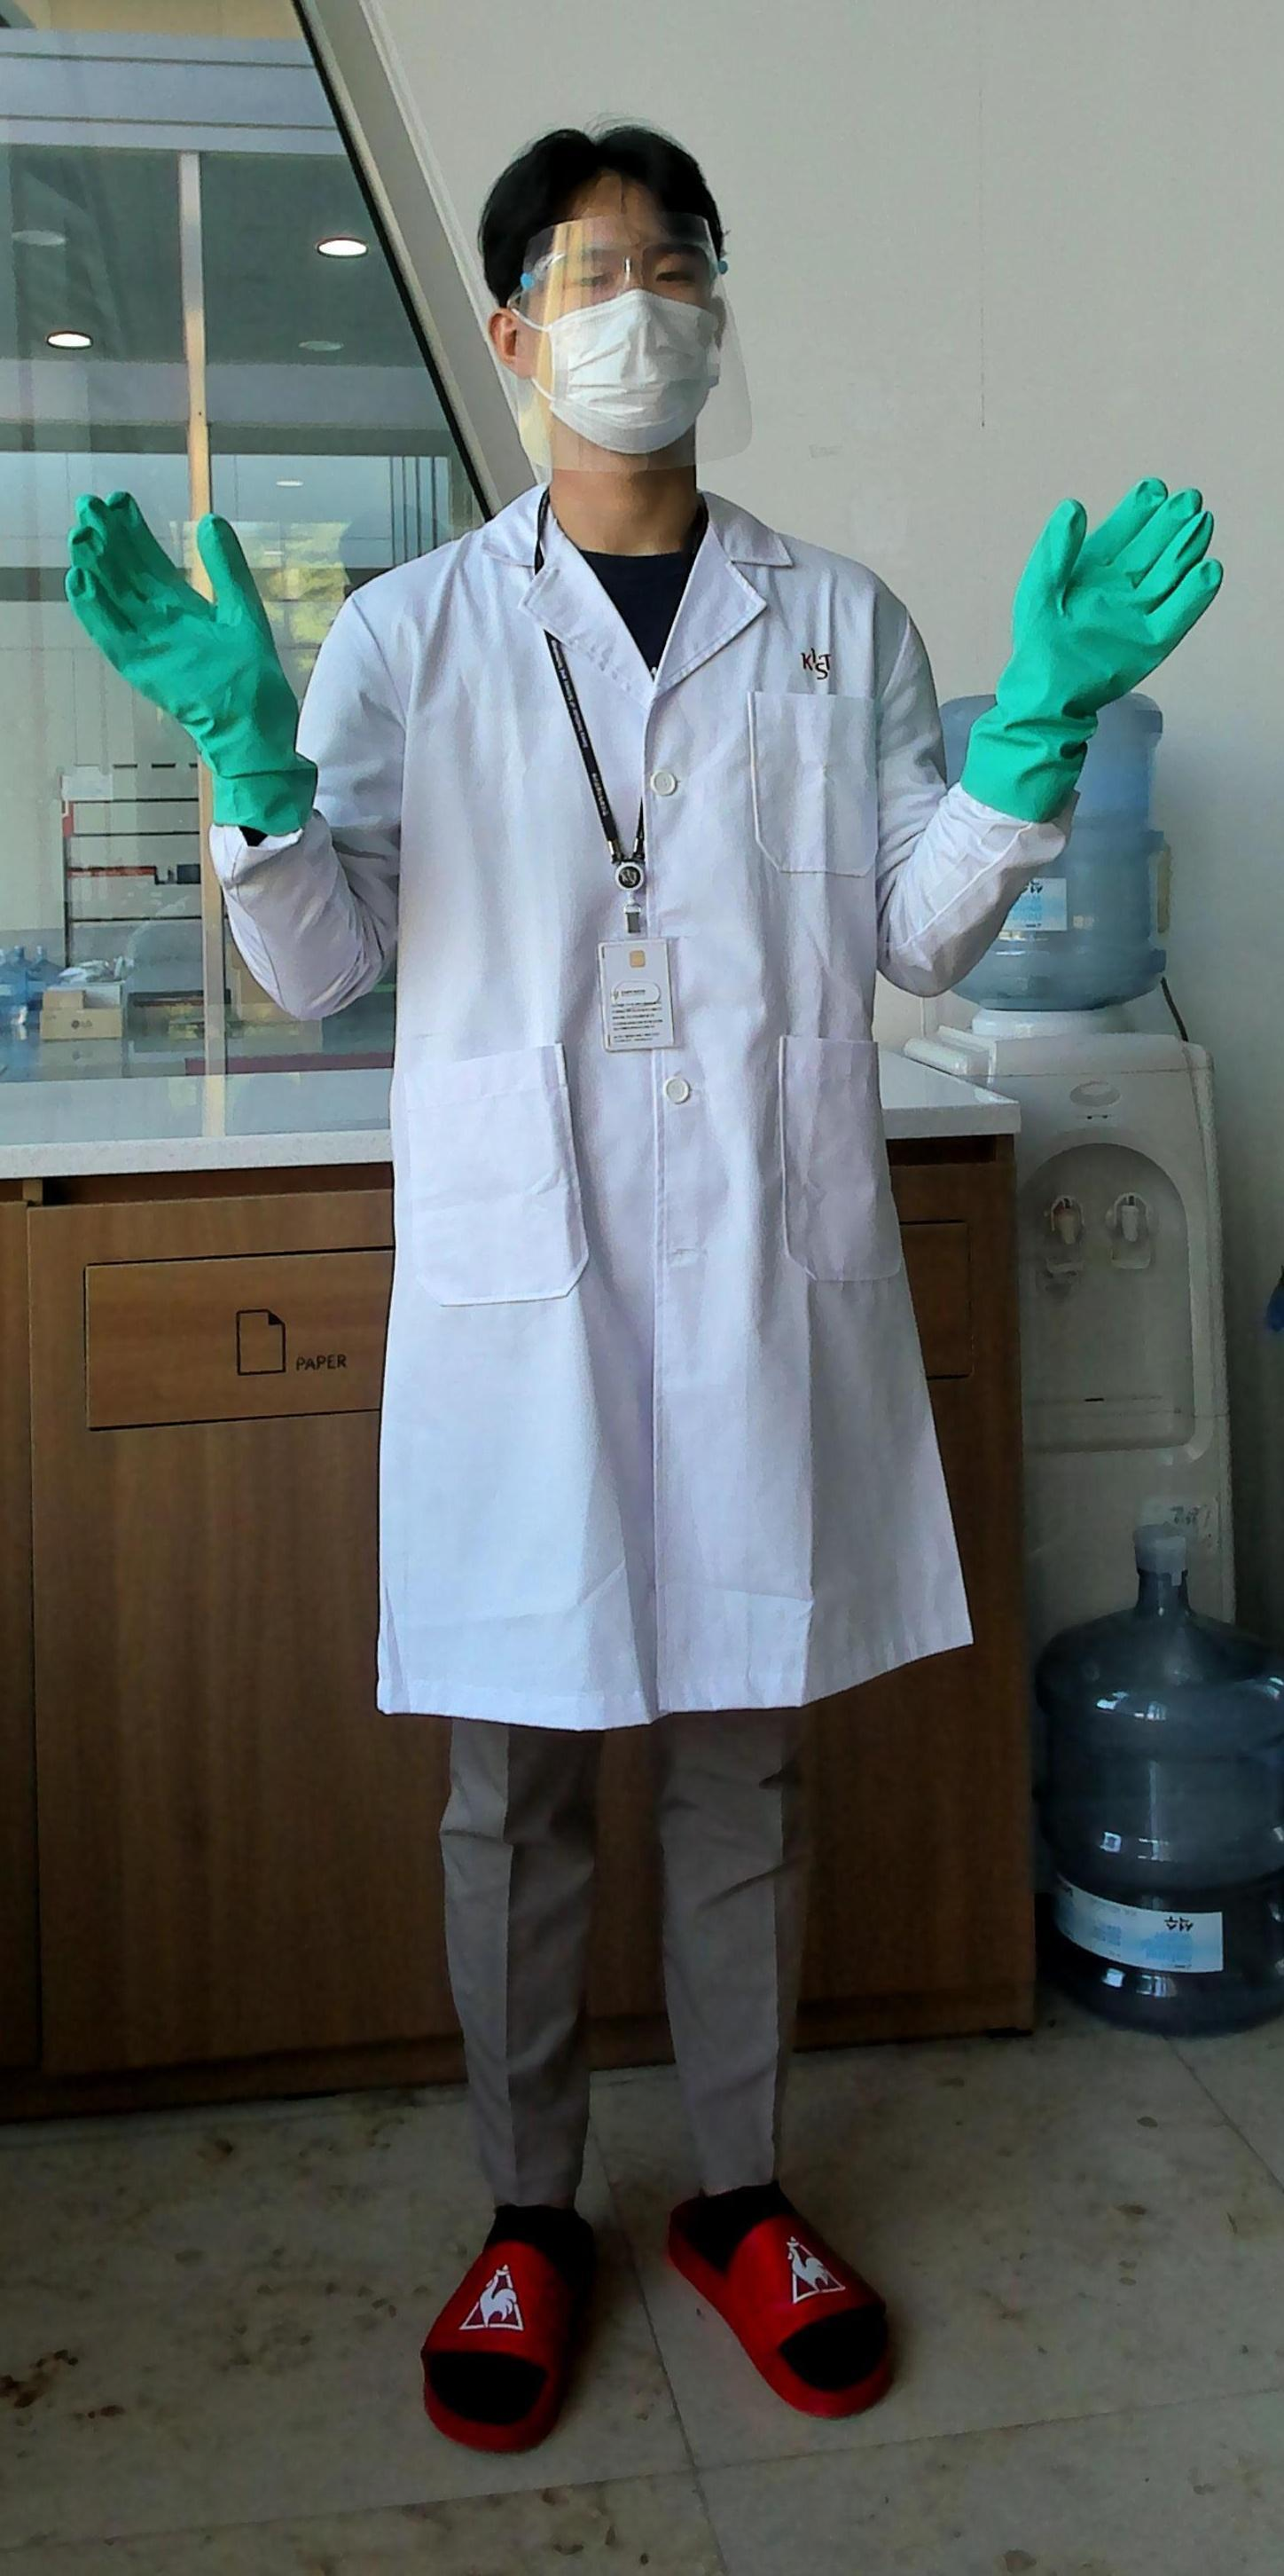lab_coat: (328, 563, 946, 1677)
